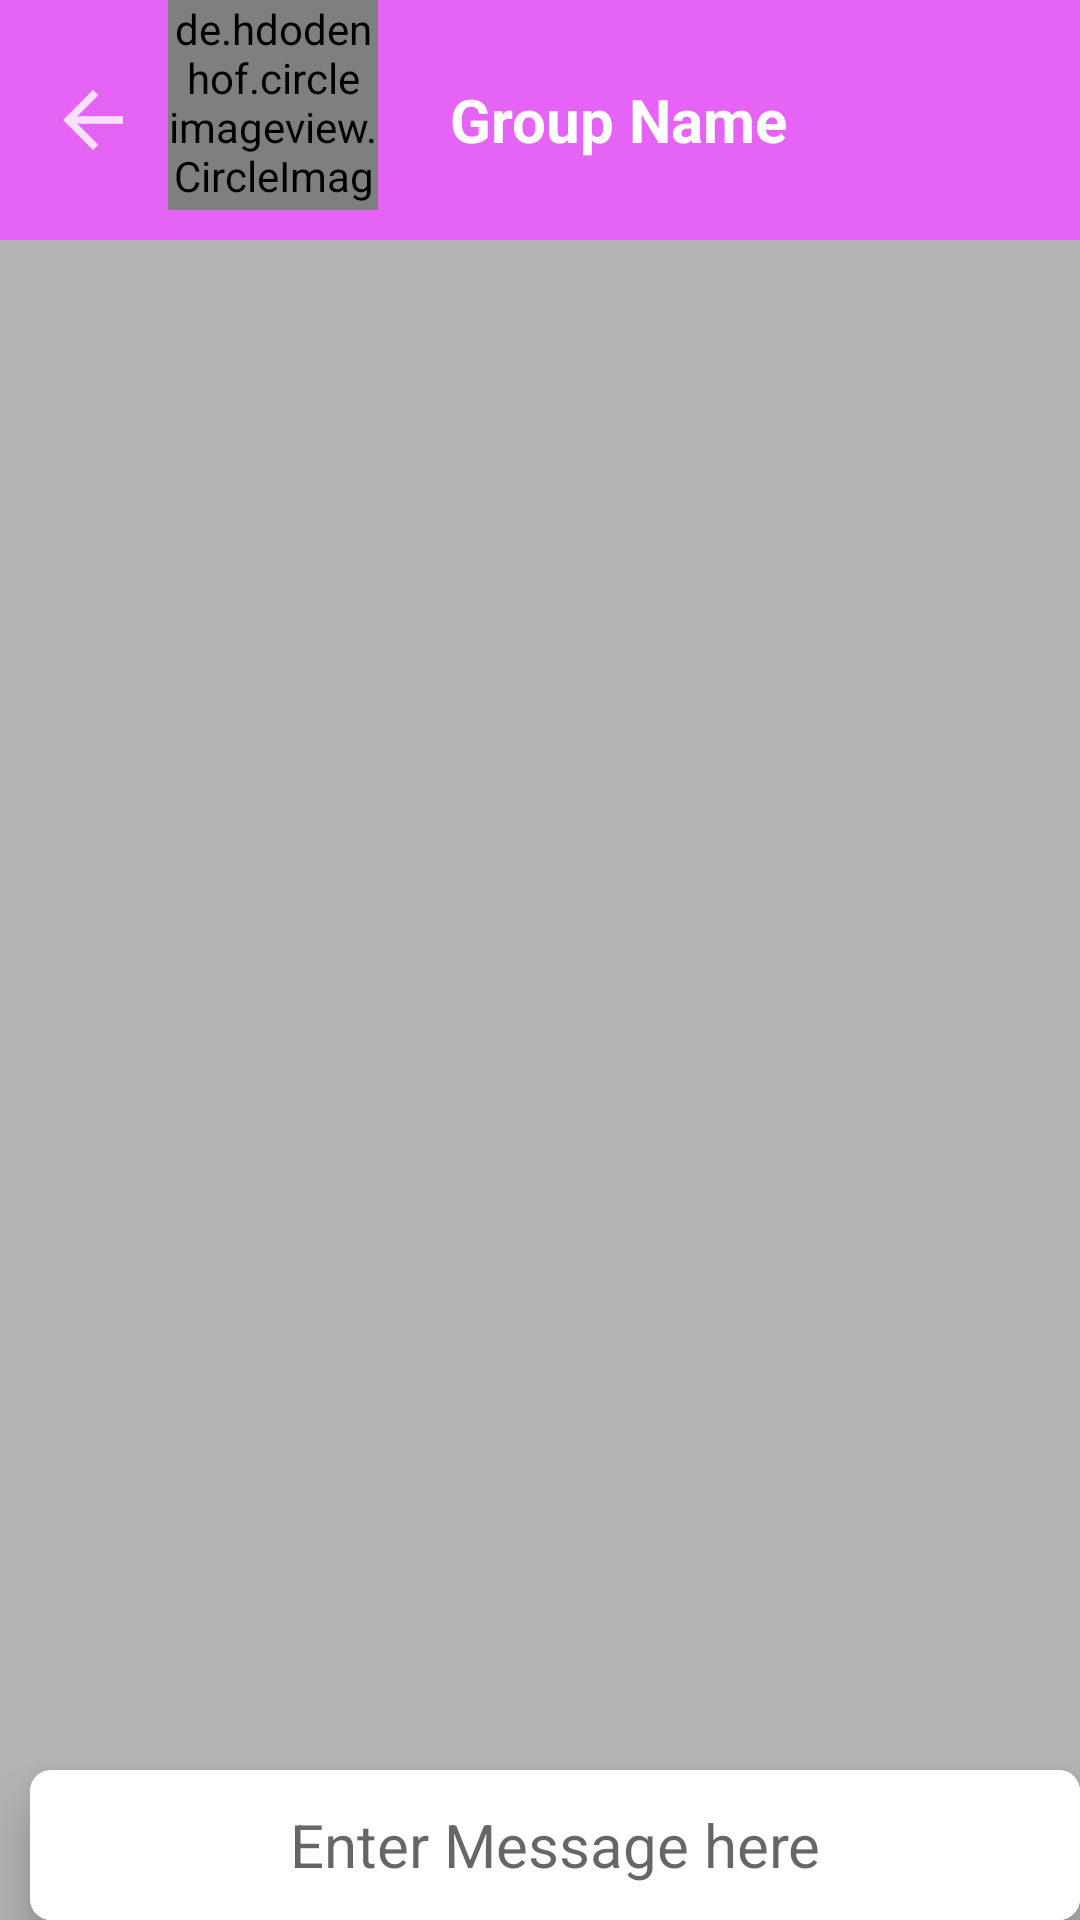

Icon bounding boxes for this 1080w x 1920h phone screenshot, format (left=x1, top=y1, right=x2, bottom=y2):
back: (left=63, top=90, right=123, bottom=150)
